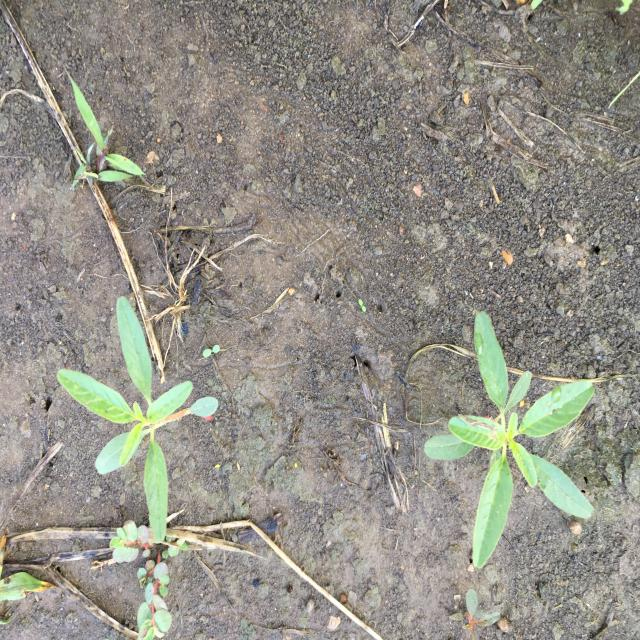SpottedSpurge: (106, 518, 181, 640)
Waterhemp: (422, 310, 598, 573), (54, 293, 220, 547)
